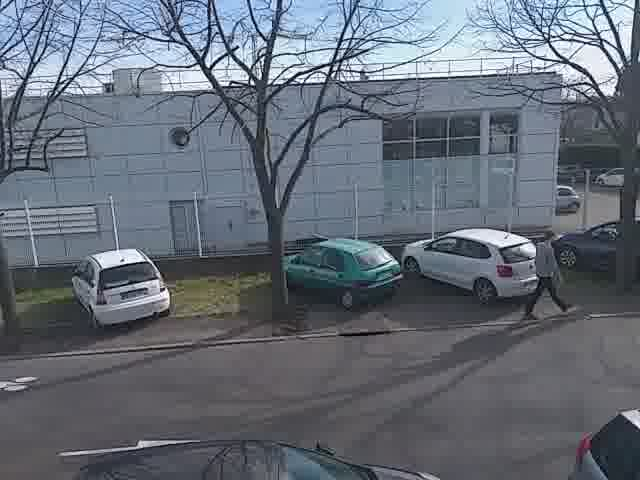persona: (522, 223, 573, 322)
